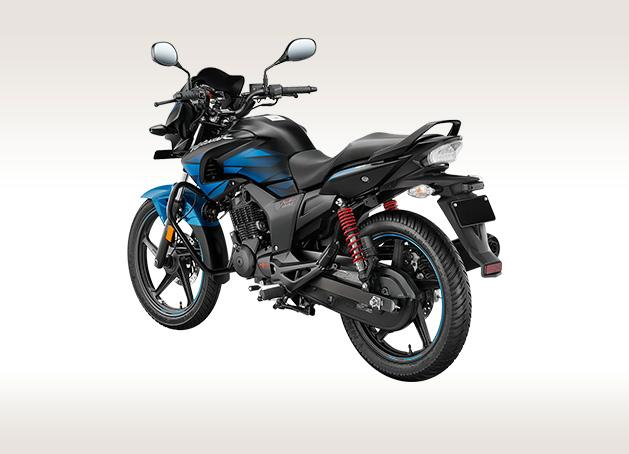motorbike: (127, 38, 501, 382)
